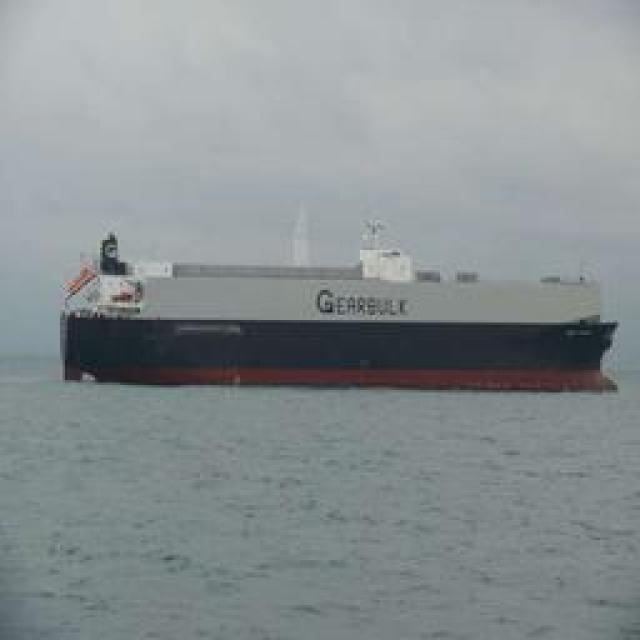CIV_Ship: (50, 225, 622, 390)
